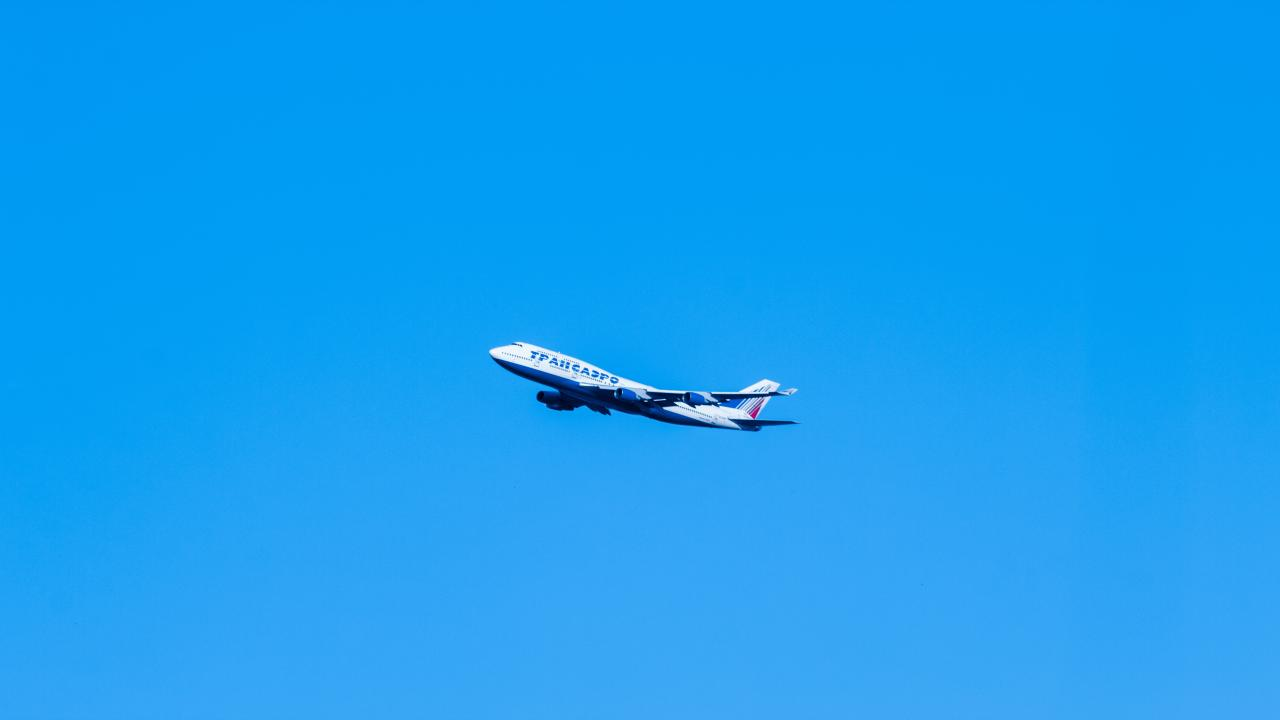Airplane: (478, 327, 800, 450)
